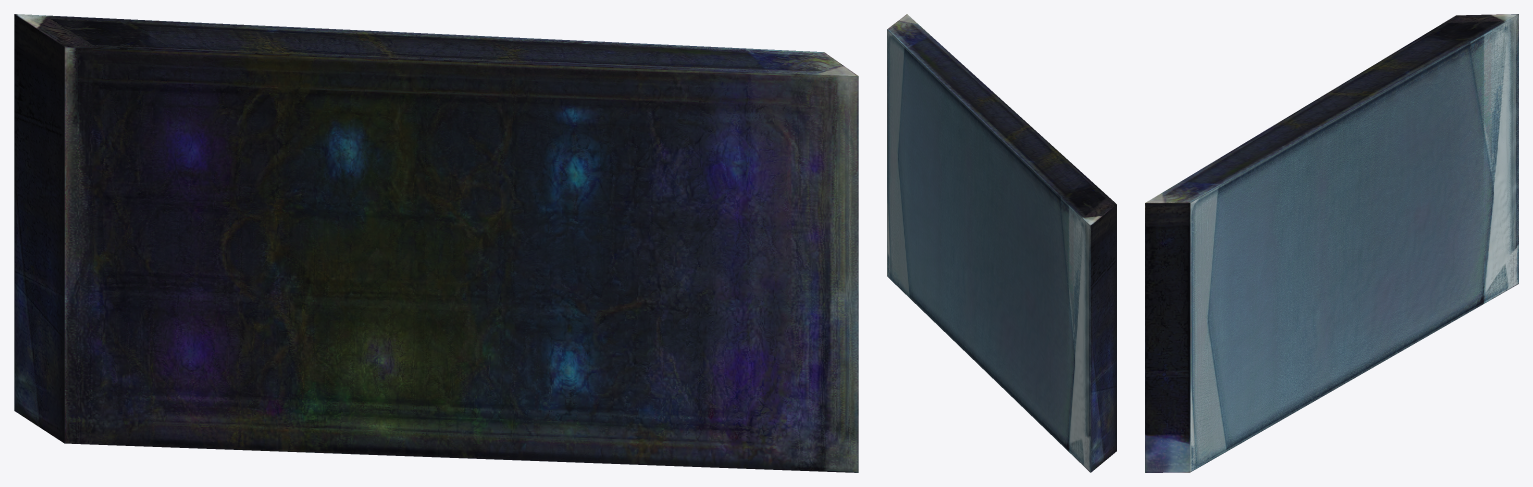
Rendered from murs_cible_left_lvl_4.glb.
3 renders of one model, left to right at view 1: azimuth 30°, elevation 25°; view 2: azimuth 150°, elevation 25°; view 3: azimuth 270°, elevation 25°, orthographic. The views are drawn at different scales.
Visible parts, largest first — view 1: Mesh_0.007; view 2: Mesh_0.007; view 3: Mesh_0.007.
Part boxes in pixels (<box>): Mesh_0.007: <box>14,14,858,472</box>; Mesh_0.007: <box>887,14,1116,472</box>; Mesh_0.007: <box>1145,14,1518,472</box>.
Bounding box in the file's own units: 0.1347 × 0.0896 × 0.1125.
1 material, 1 textured.
